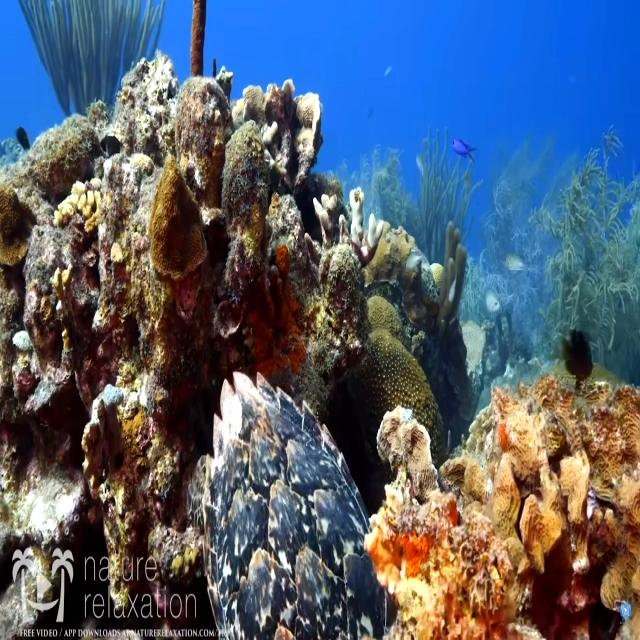Sea turtle: (146, 370, 391, 640)
